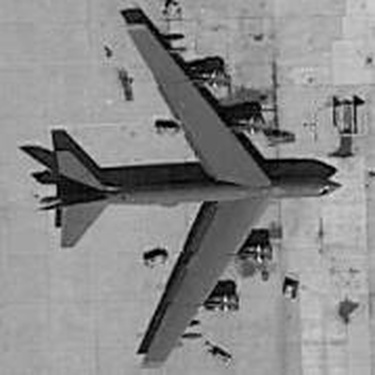airplane: (15, 7, 349, 370)
